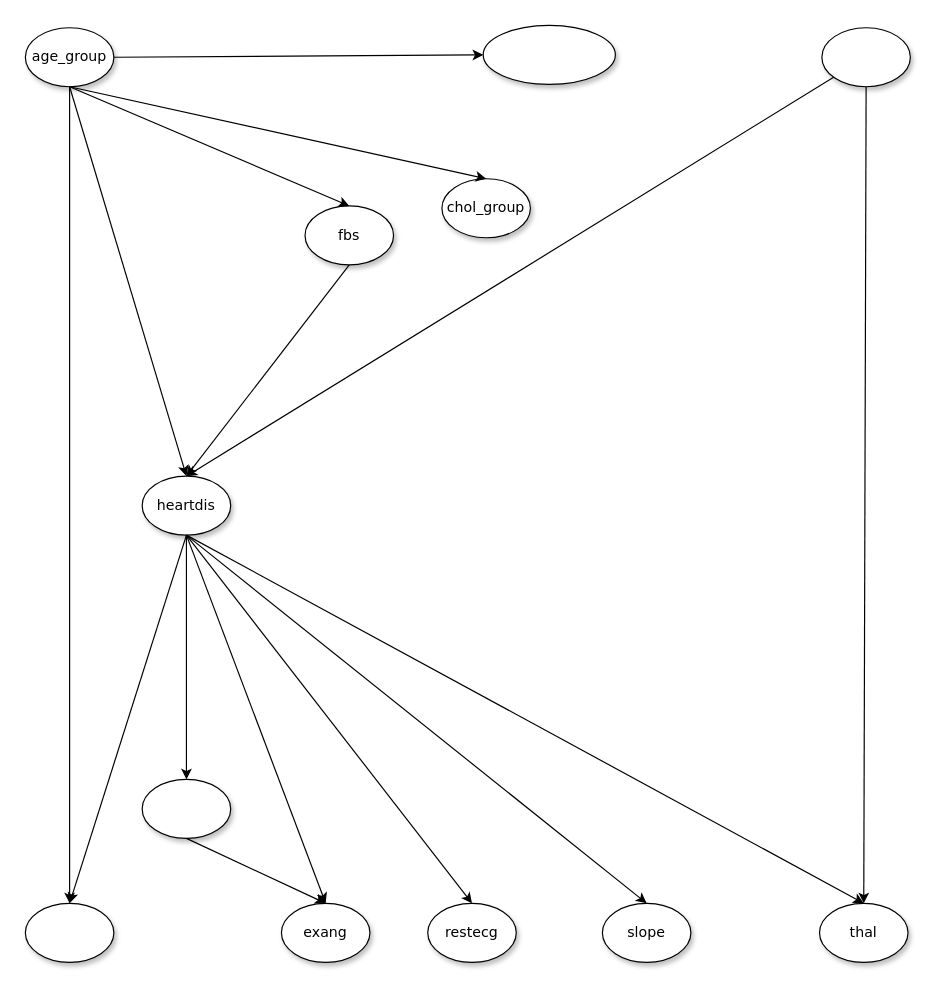
Image size: 938x991. Some labels were removed from this diagram. Here are the shapes that lost their labels. From the top down, the centre of each, then its label:
At (x=549, y=56): "trestbps_group".
At (x=866, y=58): "sex".
At (x=187, y=810): "cp".
At (x=70, y=934): "ca".
